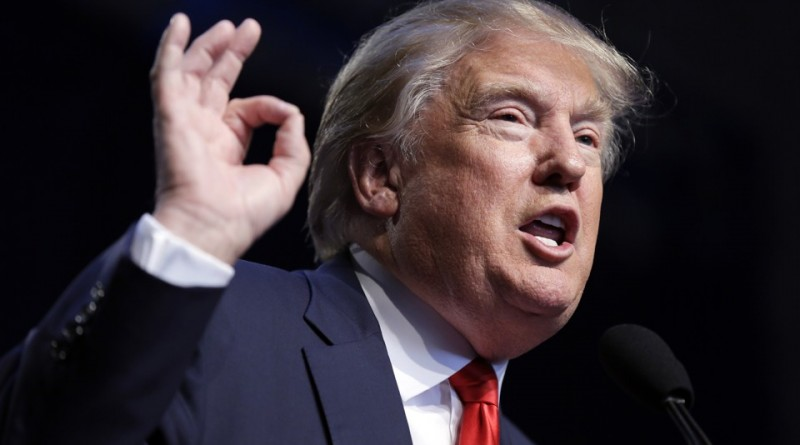oksign: (153, 16, 310, 236)
